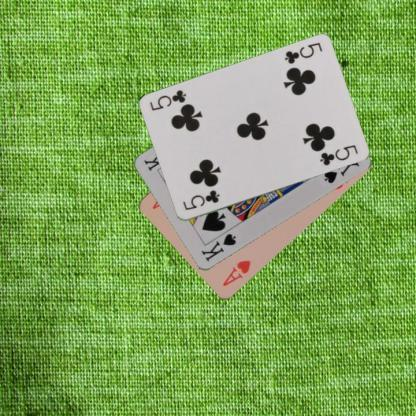5c: (282, 40, 324, 66), (180, 188, 221, 212)
Ah: (220, 258, 253, 288)
Ks: (198, 232, 238, 264)
